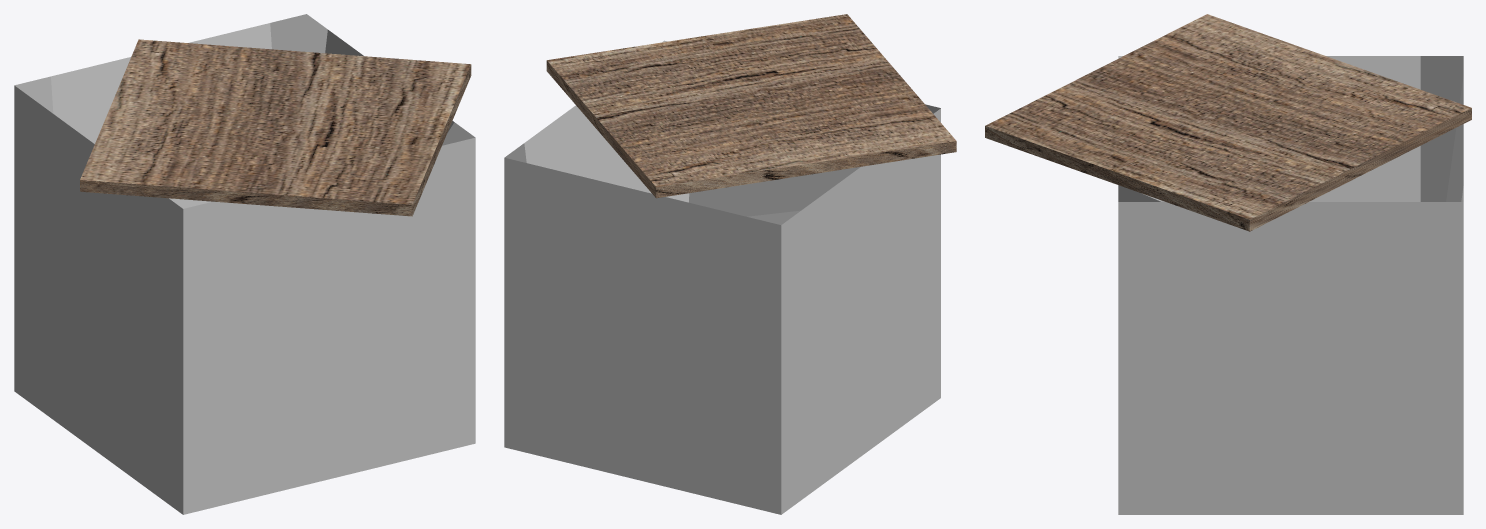
Rendered from ContainerBox.fbx.
3 renders of one model, left to right at view 1: azimuth 30°, elevation 25°; view 2: azimuth 150°, elevation 25°; view 3: azimuth 270°, elevation 25°, orthographic. The views are drawn at different scales.
Visible parts, largest first — view 1: Container, Lid; view 2: Container, Lid; view 3: Container, Lid.
Boxes of the visible parts, bbox=[...] form: Container: bbox=[14, 14, 475, 514]; Lid: bbox=[80, 39, 471, 216]; Container: bbox=[504, 40, 940, 514]; Lid: bbox=[546, 14, 956, 198]; Container: bbox=[1118, 56, 1463, 514]; Lid: bbox=[985, 14, 1471, 231].
Size of the model in its own units: 282 by 208 by 282.
